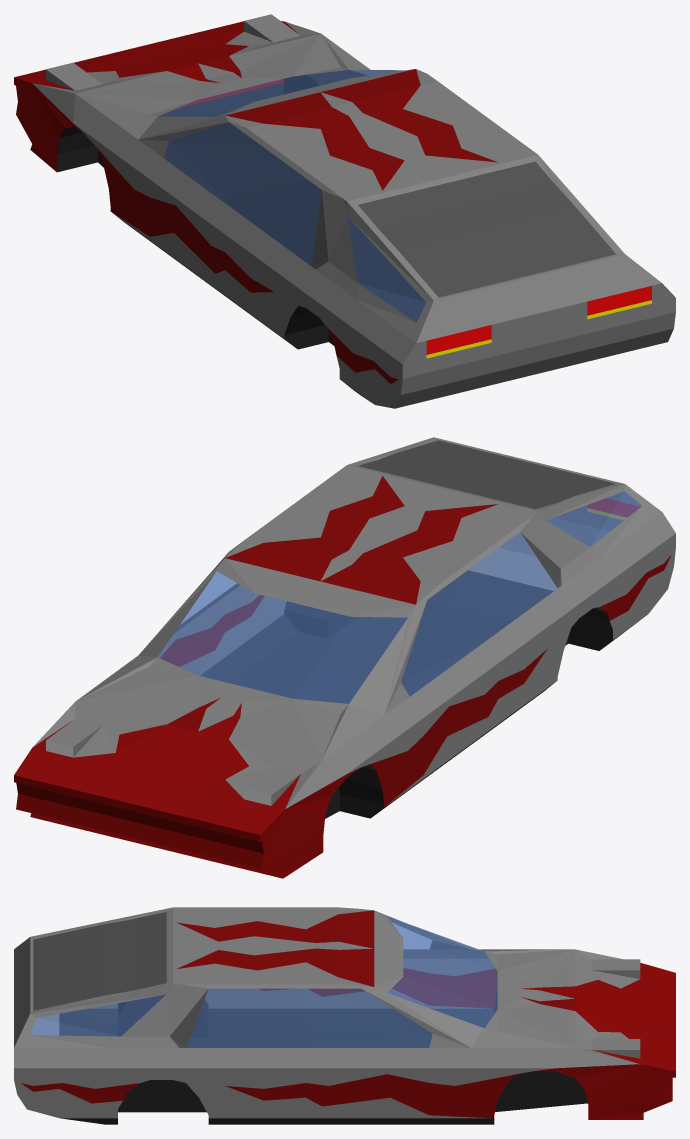
File: Samba.fbx
3 views of the same model, one above another, from view 1: azimuth 30°, elevation 25°; view 2: azimuth 150°, elevation 25°; view 3: azimuth 270°, elevation 25° (orthographic). The views are drawn at different scales.
Parts seen in each view (by area): view 1: _(Loose Entity); view 2: _(Loose Entity); view 3: _(Loose Entity).
Boxes of the visible parts, bbox=[...] form: _(Loose Entity): bbox=[14, 14, 675, 408]; _(Loose Entity): bbox=[14, 437, 675, 878]; _(Loose Entity): bbox=[14, 907, 675, 1124].
Bounding box in the file's own units: 203 × 112 × 518.
